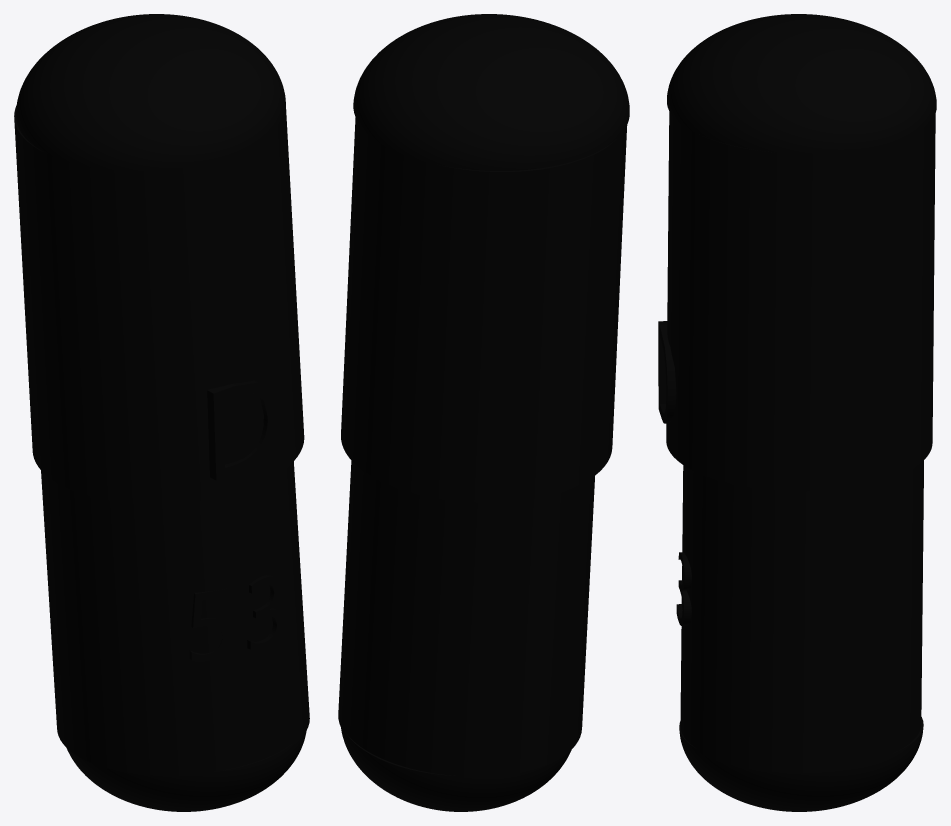
File: Flomax.fbx
3 renders of one model, left to right at view 1: azimuth 30°, elevation 25°; view 2: azimuth 150°, elevation 25°; view 3: azimuth 270°, elevation 25°, orthographic. The views are drawn at different scales.
Visible parts, largest first — view 1: node_id75, node_id76, node_id77, node_id78, node_id195, node_id222, node_id213; view 2: node_id75, node_id76, node_id77, node_id78; view 3: node_id75, node_id76, node_id77, node_id78, node_id195, node_id222.
Part boxes in pixels (x1,y1,x2,y2): node_id75: (14, 105, 304, 503); node_id76: (41, 461, 309, 776); node_id77: (16, 14, 285, 171); node_id78: (66, 731, 306, 811); node_id195: (207, 380, 277, 480); node_id222: (247, 575, 283, 650); node_id213: (189, 588, 230, 661); node_id75: (341, 117, 627, 502); node_id76: (338, 460, 594, 777); node_id77: (353, 14, 629, 170); node_id78: (341, 728, 571, 811); node_id75: (666, 111, 935, 491); node_id76: (680, 460, 923, 773); node_id77: (667, 14, 936, 153); node_id78: (679, 717, 923, 811); node_id195: (658, 321, 676, 423); node_id222: (676, 552, 691, 625).
Bounding box in the file's own units: 0.4473 × 1.27 × 0.427.
Materials: 7 (4 with a texture image).
